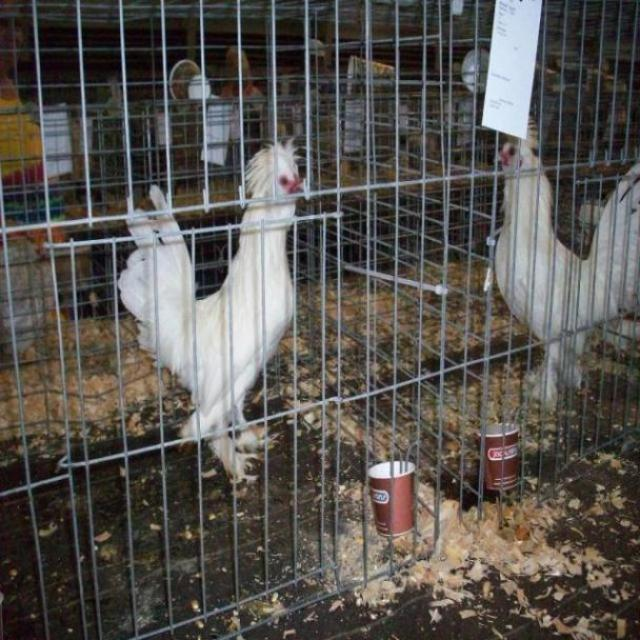Chicken: (114, 118, 312, 489), (488, 107, 640, 401)
